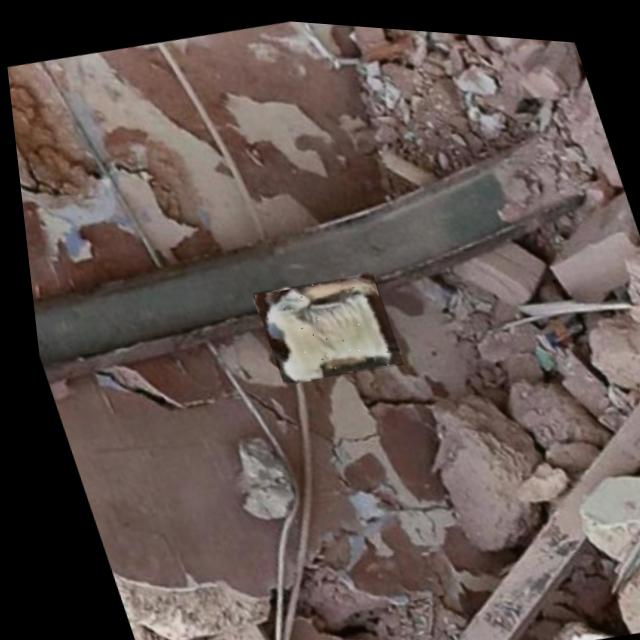Person in Rubble: (243, 259, 397, 386)
